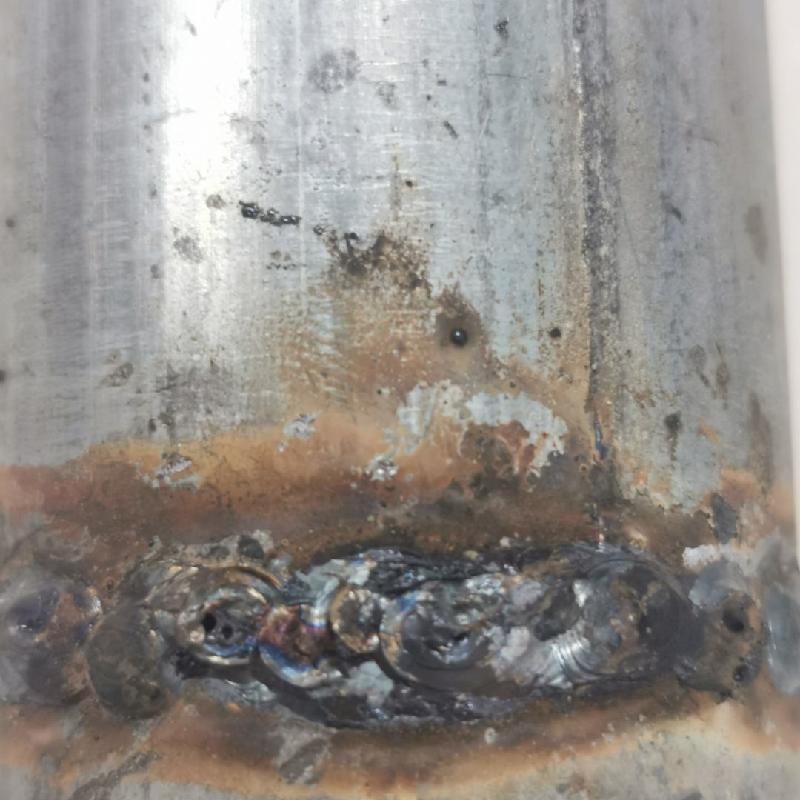Surface_pores: (713, 590, 756, 695)
crater: (188, 580, 485, 711)
wrong_size: (487, 560, 798, 707)
